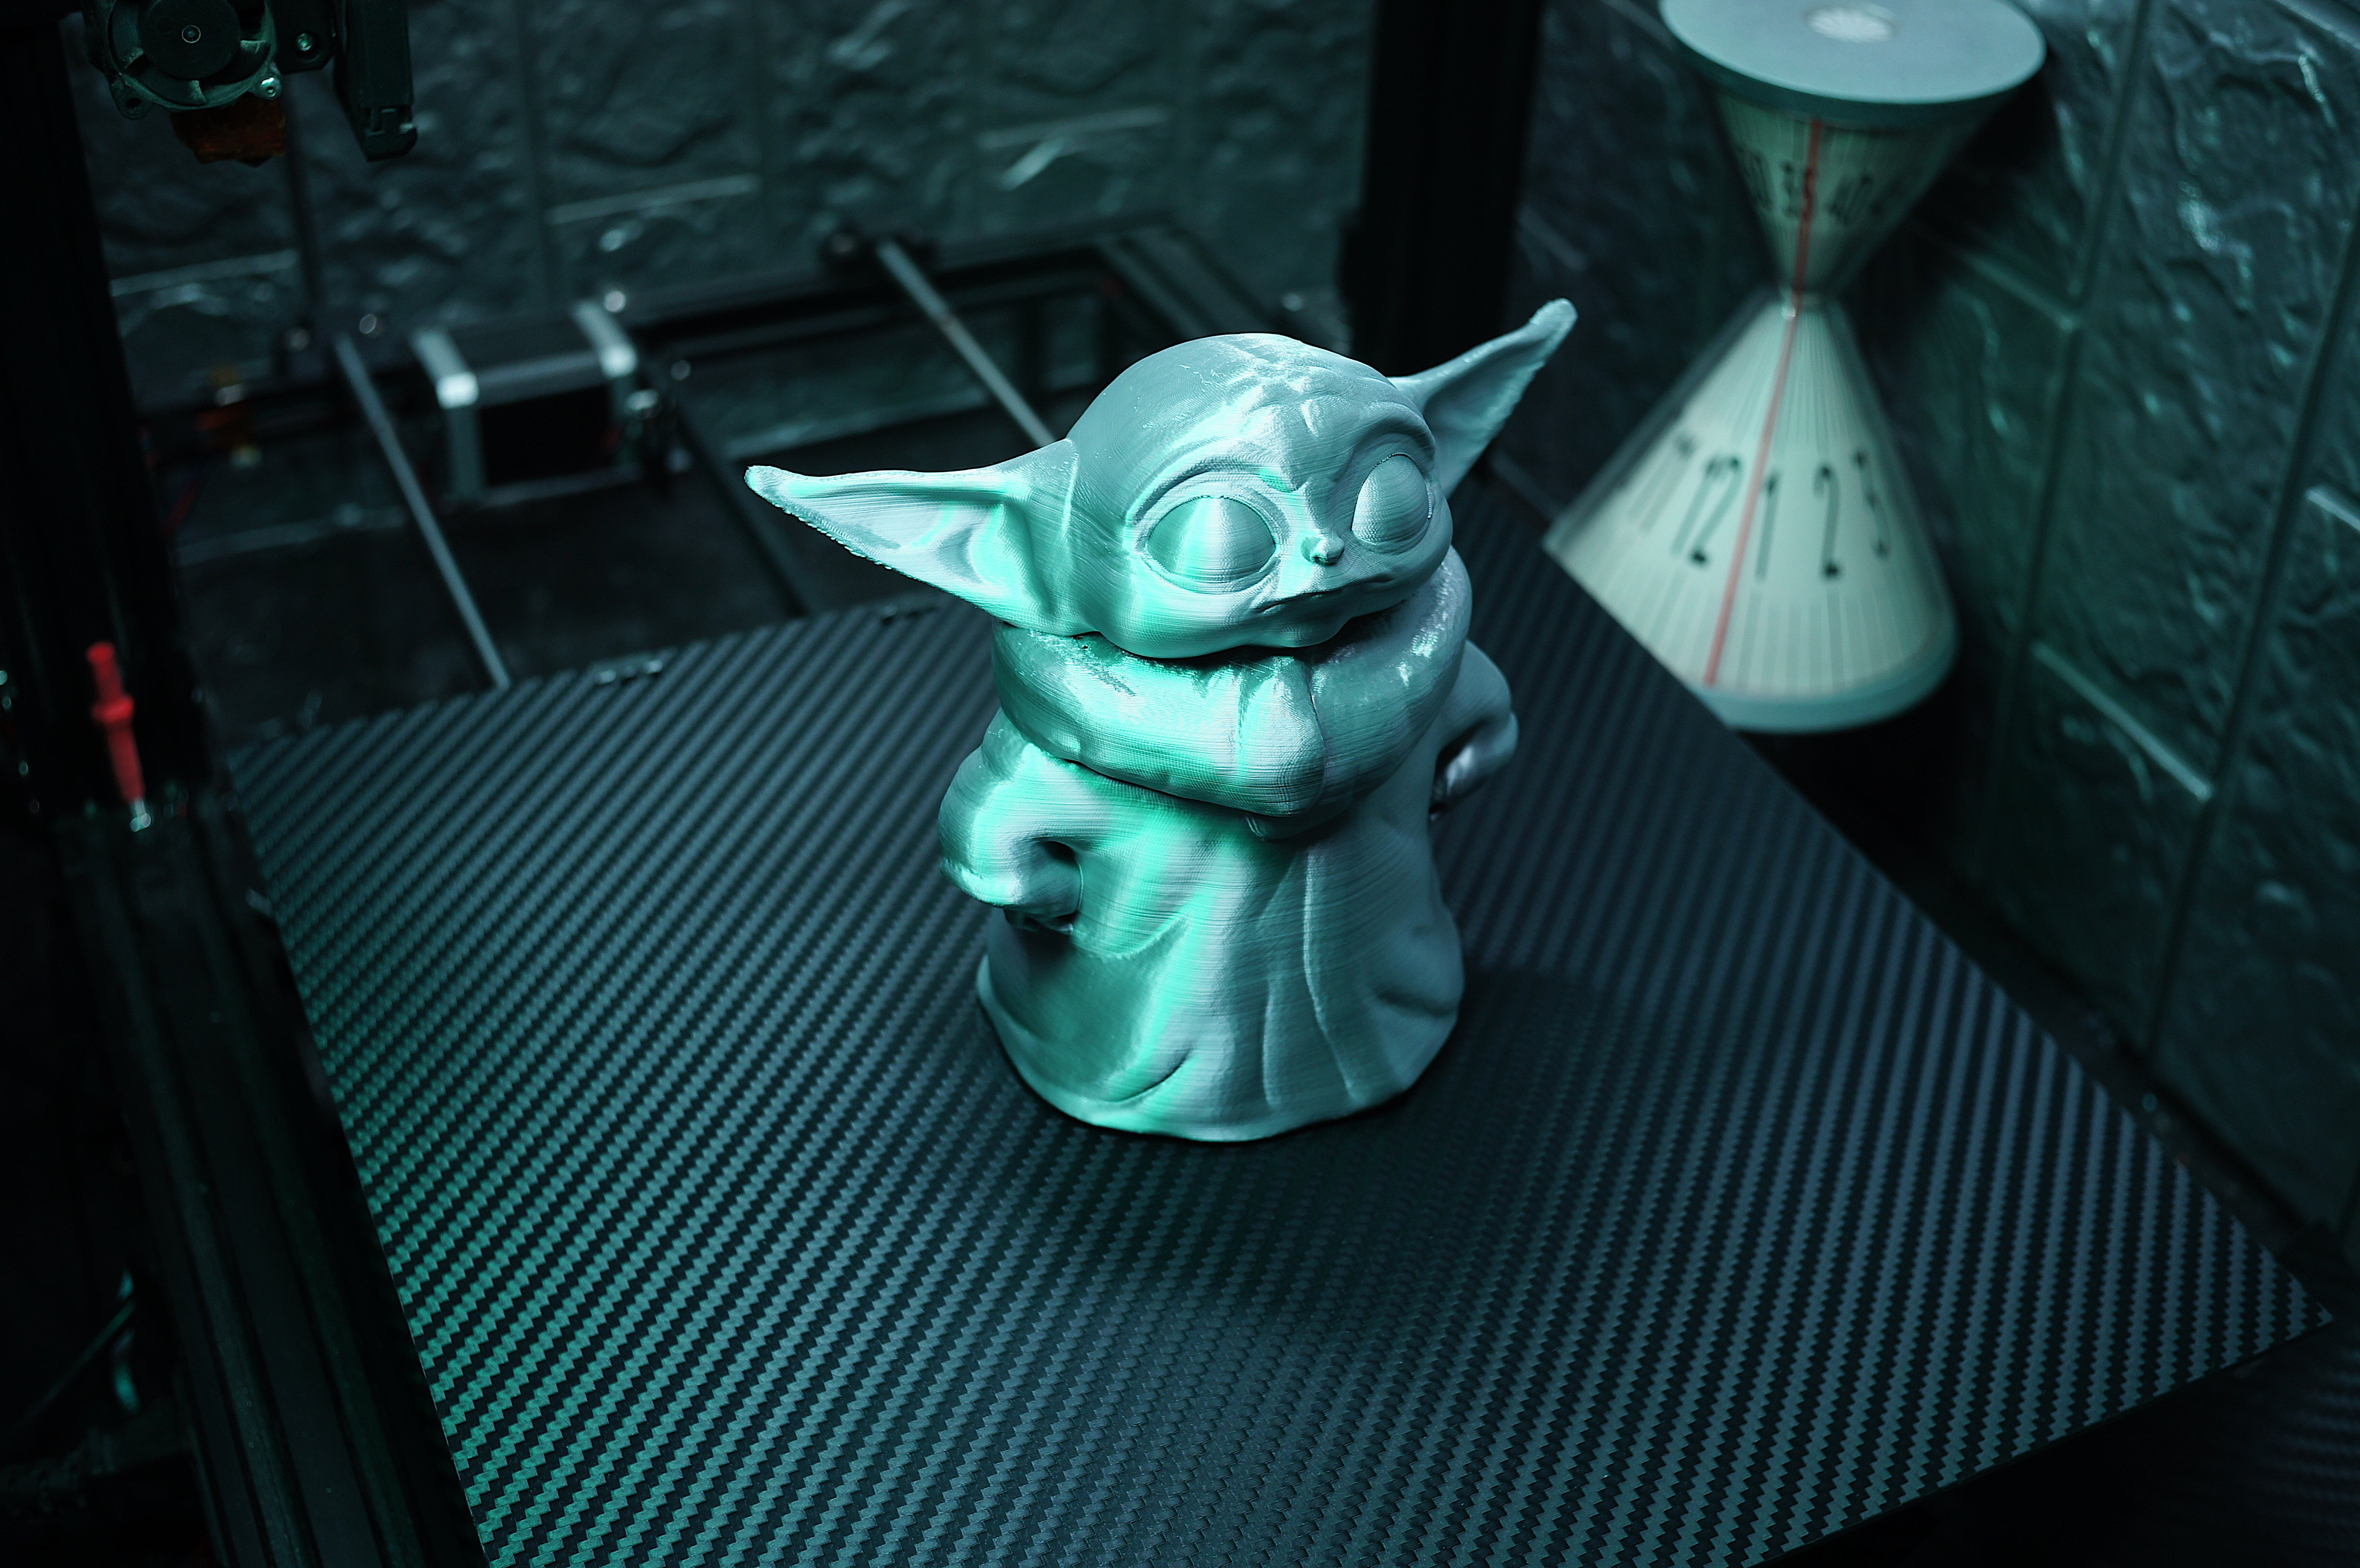Good: (689, 208, 1630, 1202)
